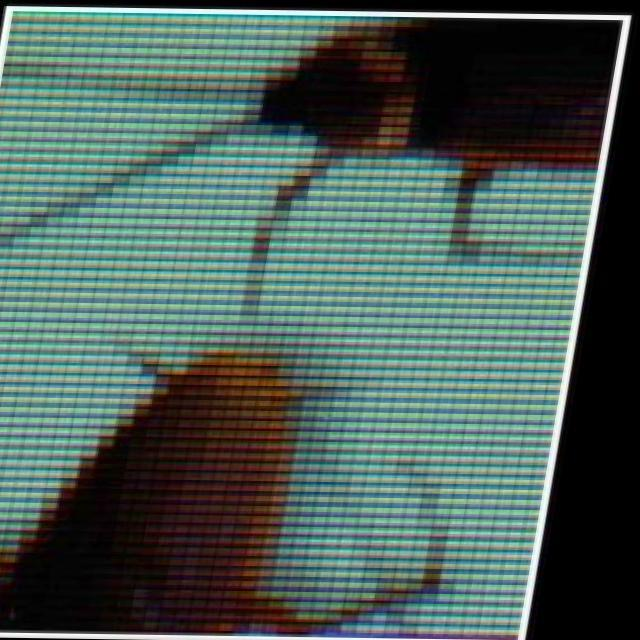cockroach: (0, 309, 511, 640), (224, 0, 640, 197)
